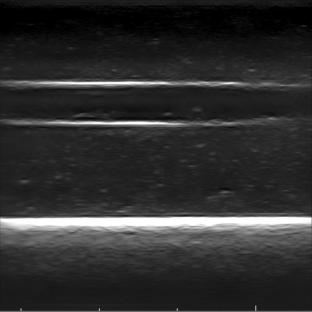vessel: (0, 79, 284, 130)
